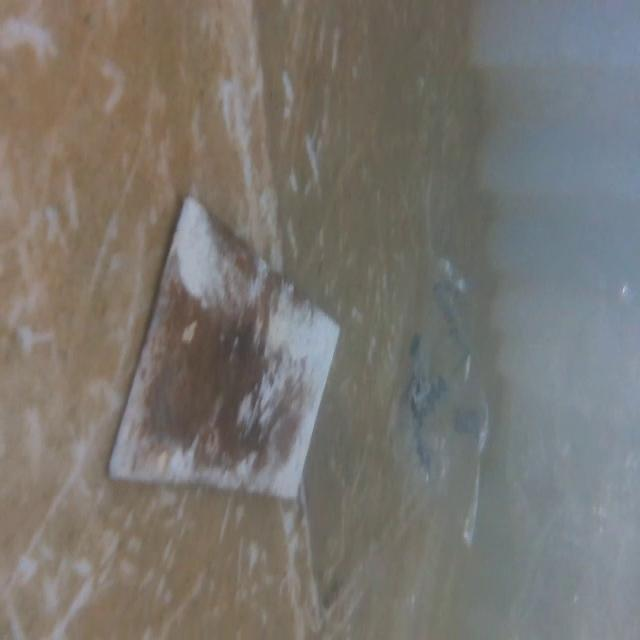plastic bags: (388, 270, 501, 564)
